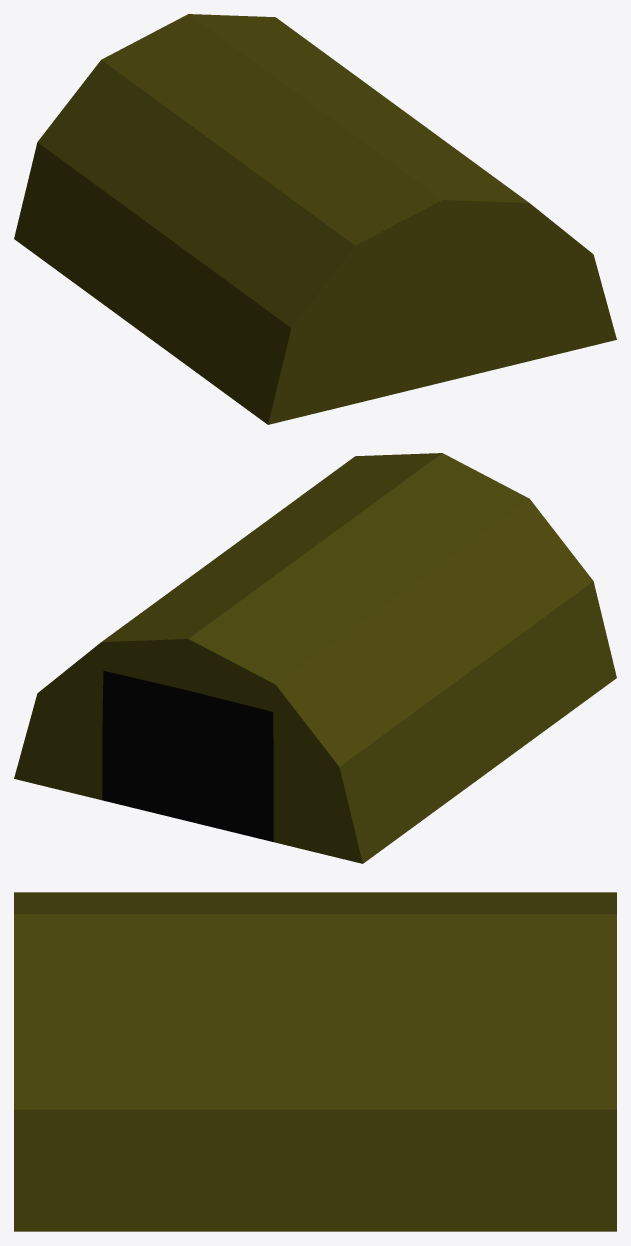
The model's file is hangar.FBX.
The picture shows the model from 3 angles, top to bottom: view 1: azimuth 30°, elevation 25°; view 2: azimuth 150°, elevation 25°; view 3: azimuth 270°, elevation 25°; orthographic projection. The views are drawn at different scales.
Parts seen in each view (by area): view 1: Arc001; view 2: Arc001; view 3: Arc001.
Boxes of the visible parts, box(x1,y1,x2,y2) form: Arc001: box(14, 14, 616, 424); Arc001: box(14, 453, 616, 863); Arc001: box(14, 892, 616, 1231).
Bounding box in the file's own units: 178 × 88.74 × 224.
